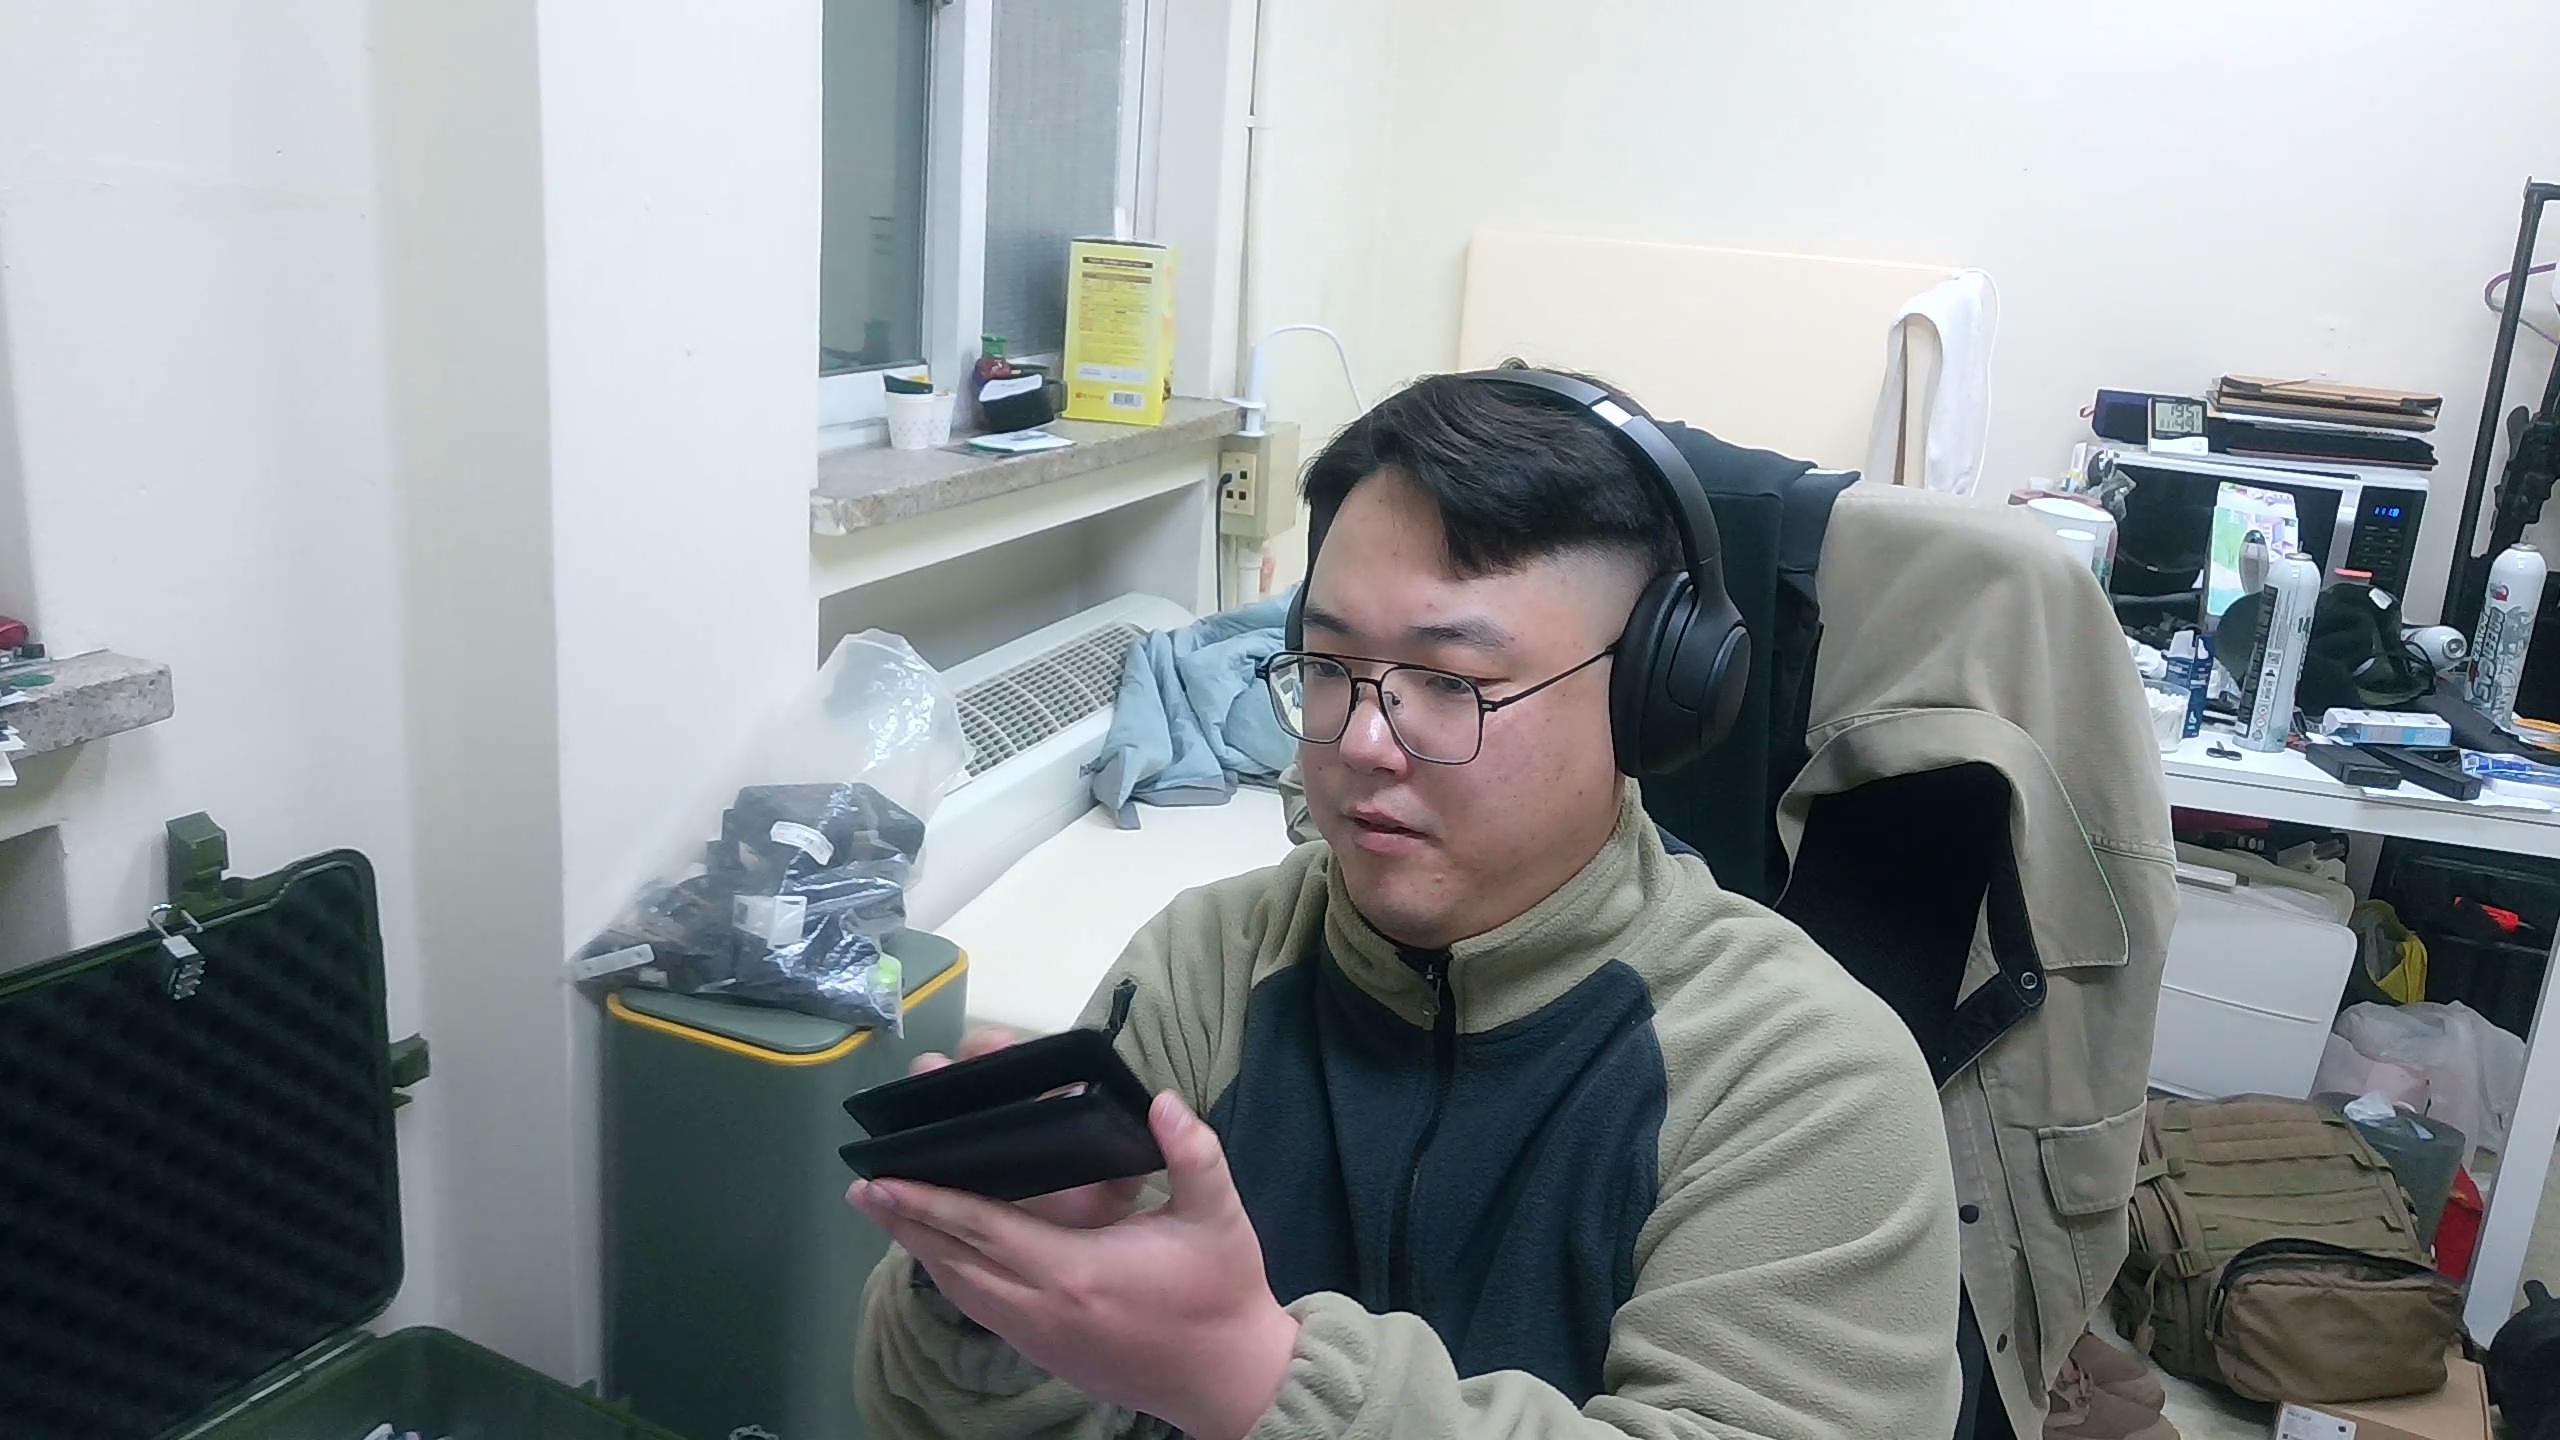earphone: (839, 1023, 1171, 1208)
